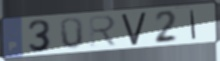0: (59, 17, 85, 51)
2: (153, 9, 180, 45)
3: (27, 19, 54, 54)
I: (188, 9, 197, 40)
R: (87, 14, 119, 48)
V: (119, 10, 148, 47)
